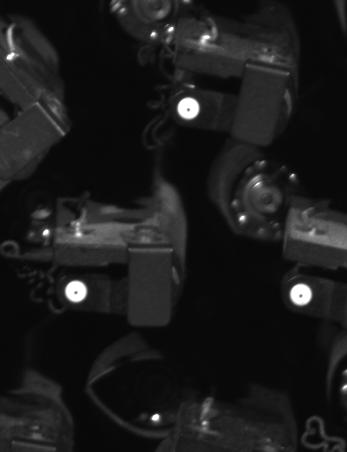fiber: (283, 280, 324, 311), (173, 93, 205, 125), (60, 276, 93, 306)
